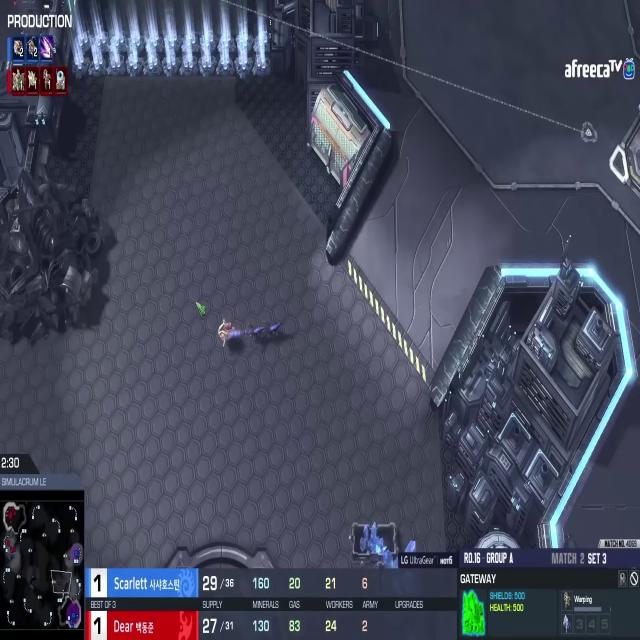probe: (215, 314, 237, 353)
zergling: (263, 313, 288, 345), (246, 313, 268, 349)
